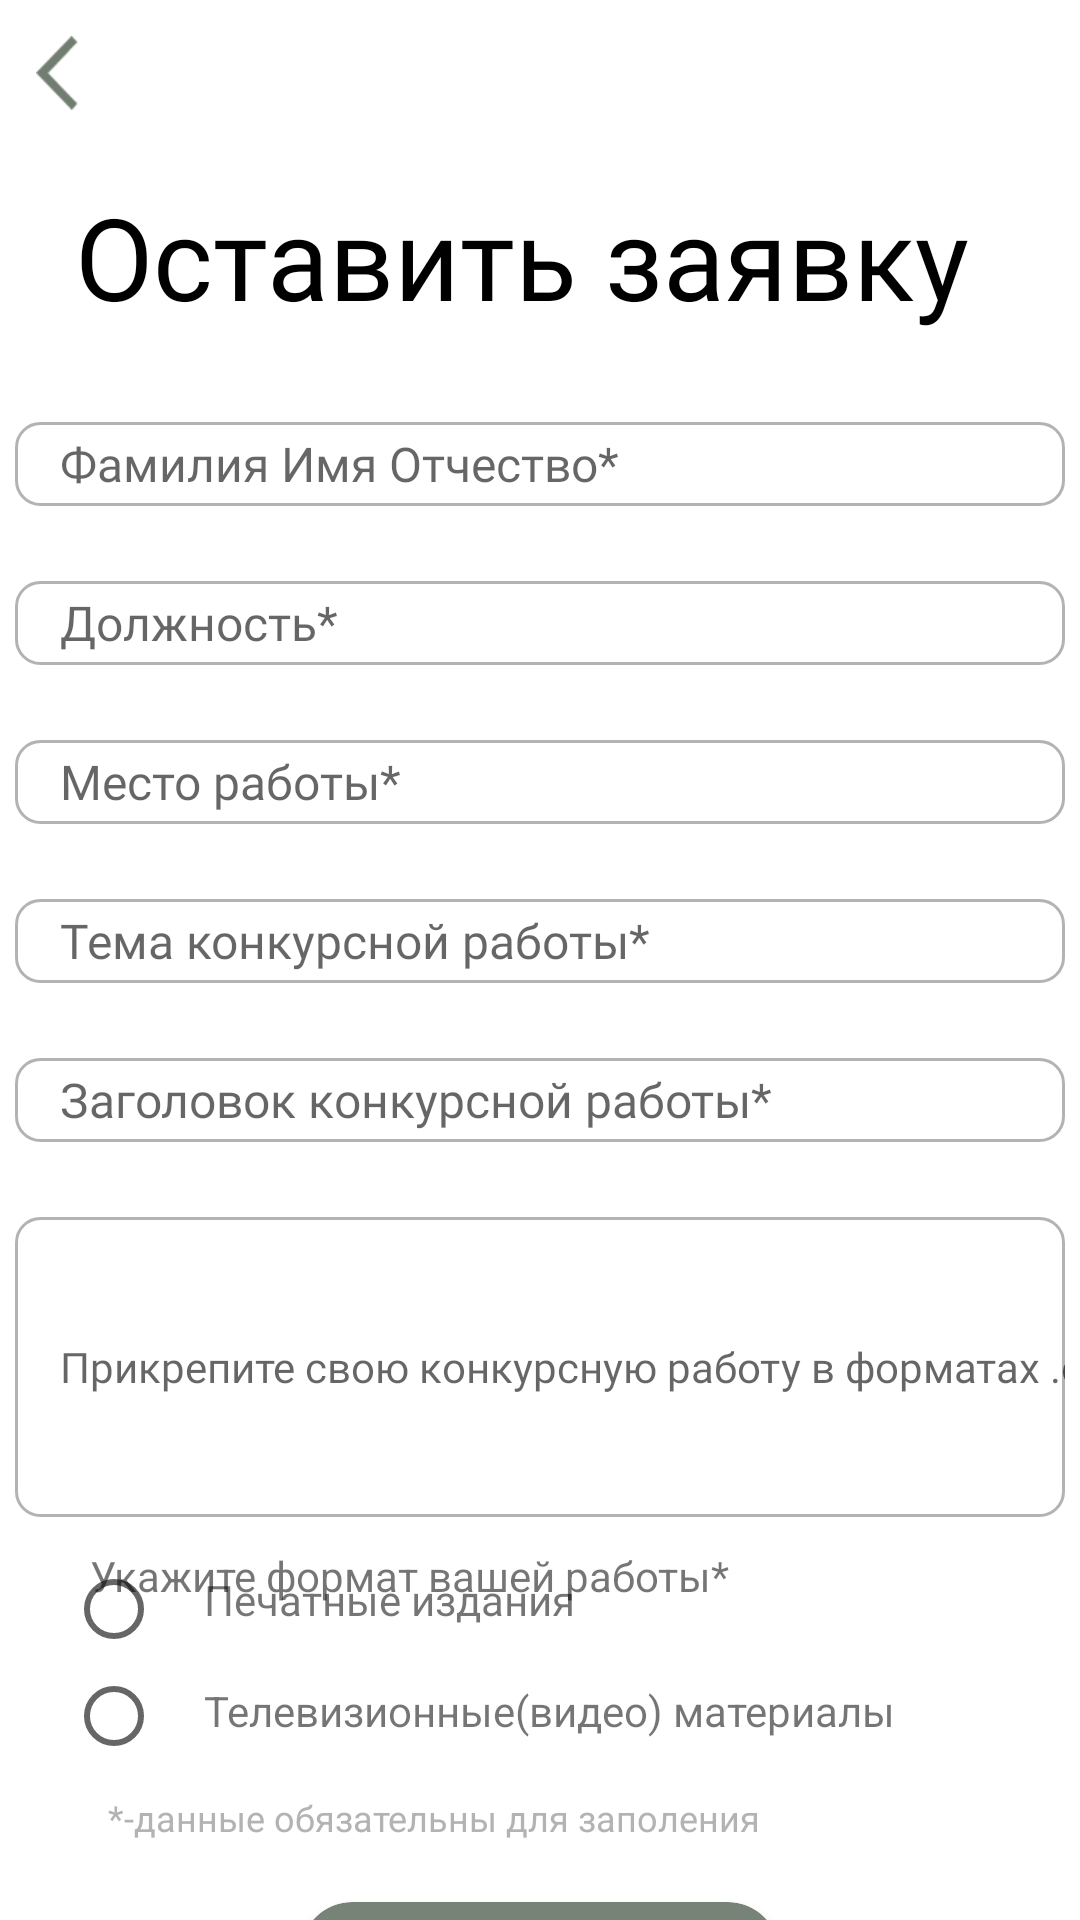

Where icons sit on this 1080 × 1920 app screen, as (x1, y1, x2, y2):
exit: (36, 36, 78, 110)
